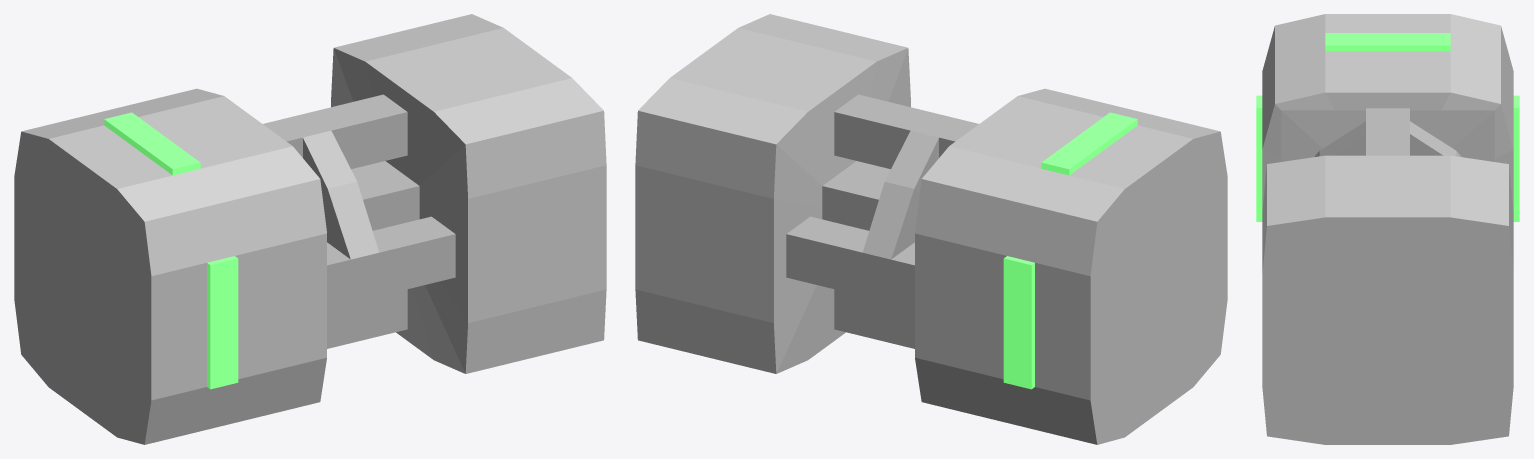
File: Drill.fbx
3 renders of one model, left to right at view 1: azimuth 30°, elevation 25°; view 2: azimuth 150°, elevation 25°; view 3: azimuth 270°, elevation 25°, orthographic. The views are drawn at different scales.
Visible parts, largest first — view 1: Drill; view 2: Drill; view 3: Drill.
Boxes of the visible parts, x1,y1,x2,y2 form: Drill: (14, 14, 606, 444); Drill: (635, 14, 1227, 444); Drill: (1256, 14, 1519, 444).
Size of the model in its own units: 38.34 by 21 by 21.
